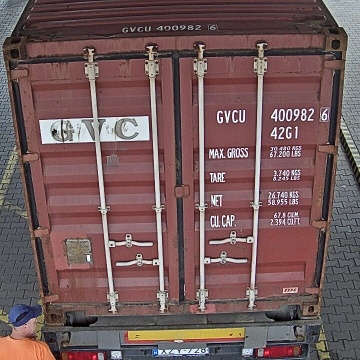serial_id: (217, 107, 329, 123)
